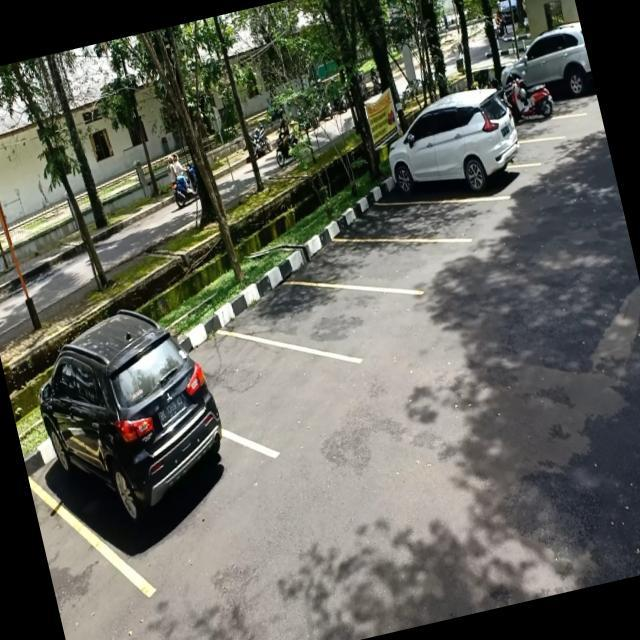empty: (202, 317, 328, 468), (265, 263, 386, 373), (365, 181, 475, 259), (323, 222, 419, 307)
occupied: (27, 319, 250, 568), (377, 99, 530, 217)
